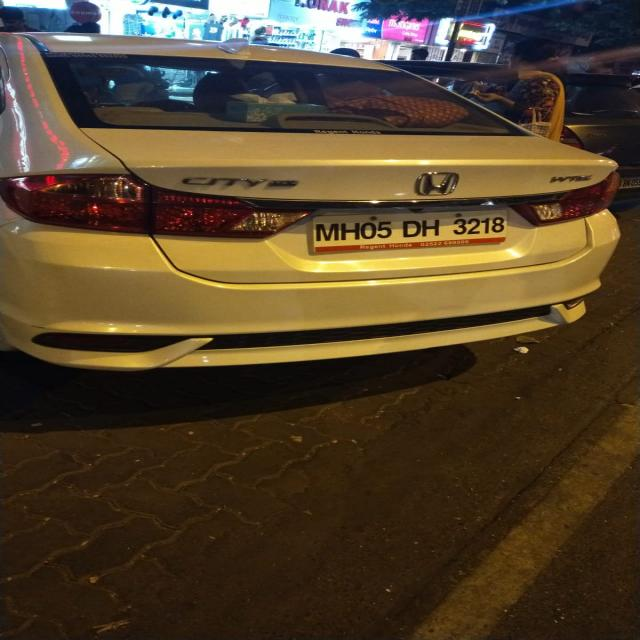Number-Plate: (303, 209, 510, 244)
